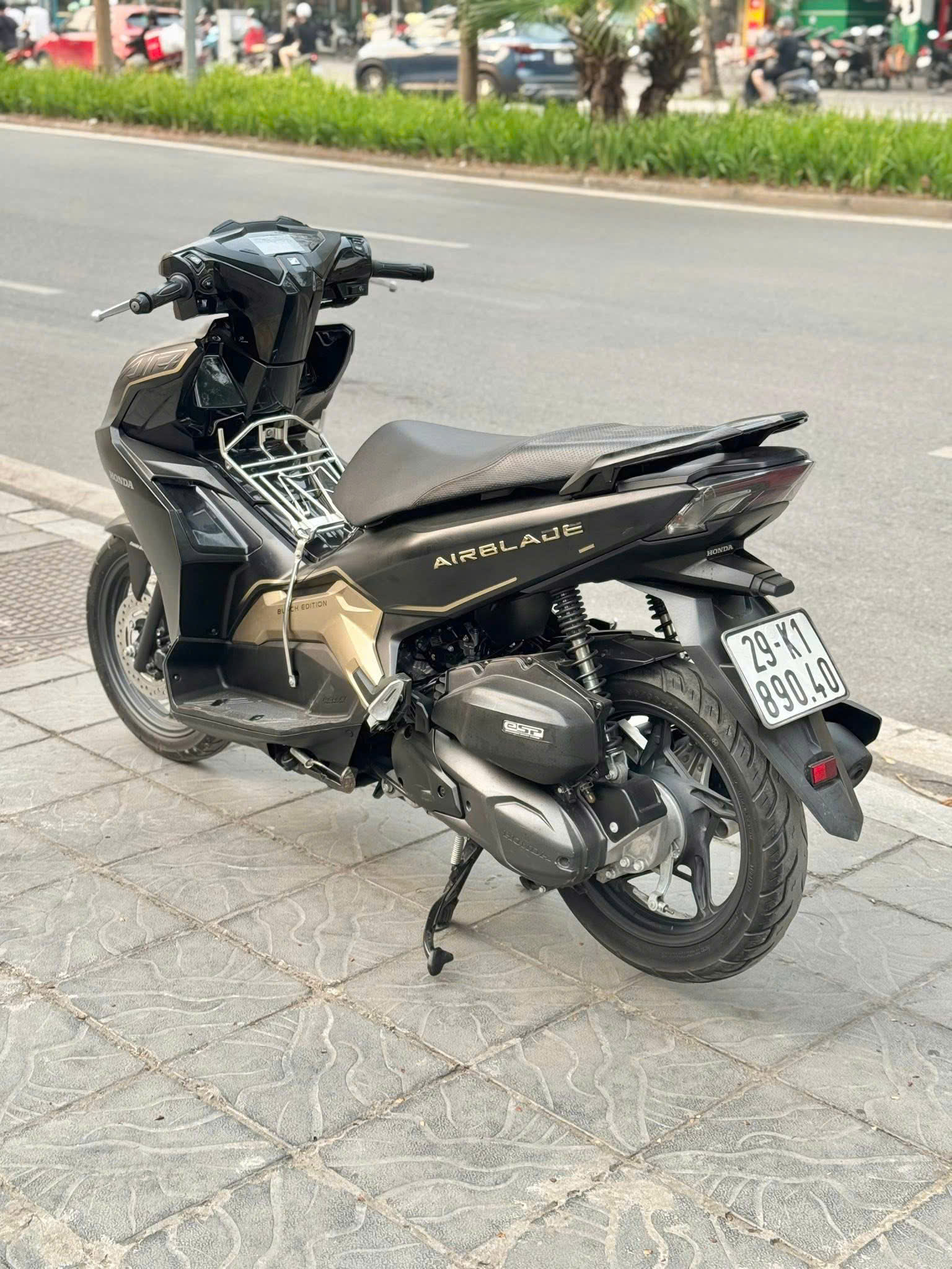Bien-so: (719, 608, 851, 728)
